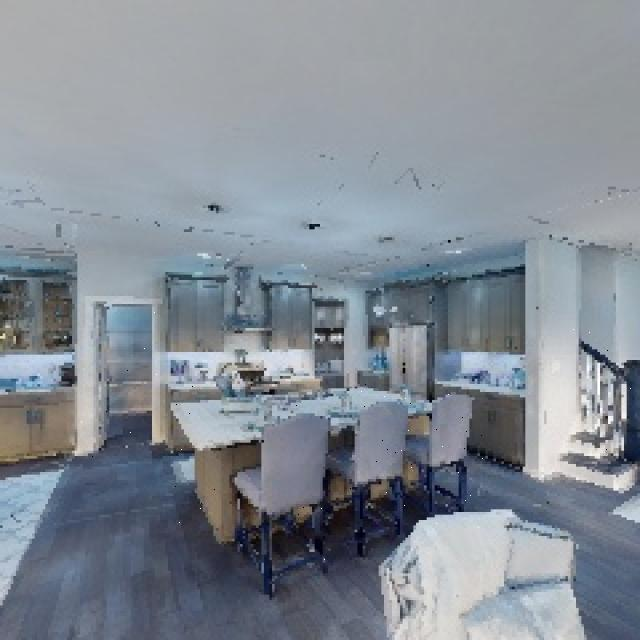chair: (222, 403, 333, 593), (328, 388, 418, 554), (401, 382, 483, 529)
door-frame: (81, 285, 161, 457)
stairs: (557, 323, 640, 525)
table: (167, 374, 446, 537)
